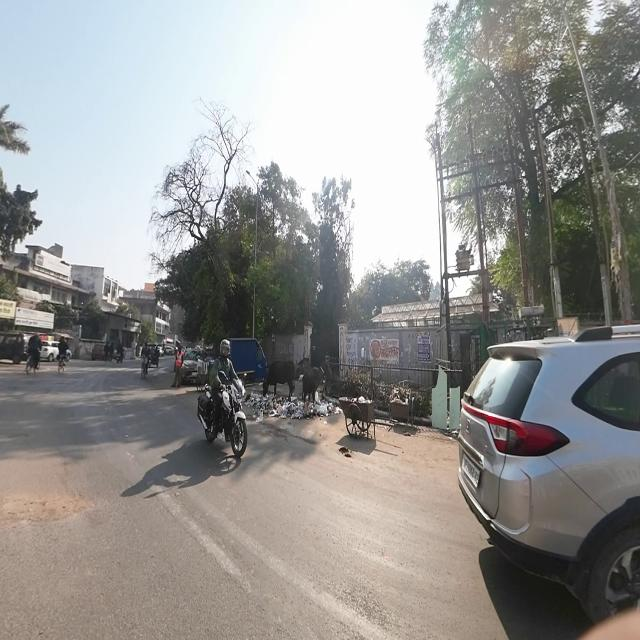Garbage: (338, 393, 377, 440), (247, 391, 300, 423), (389, 384, 414, 431), (300, 399, 338, 419)
